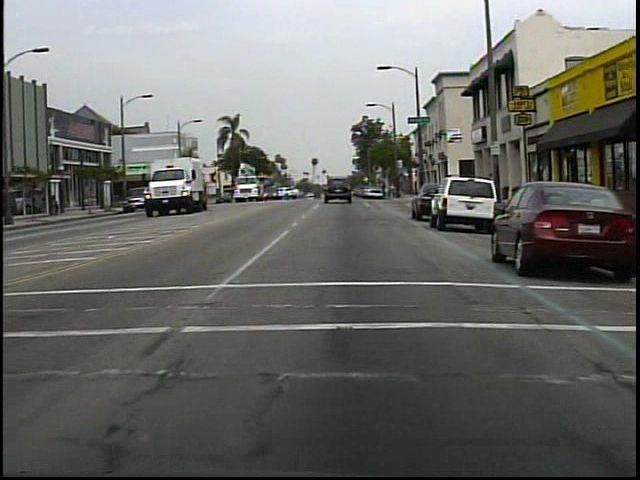person: (51, 193, 61, 218)
